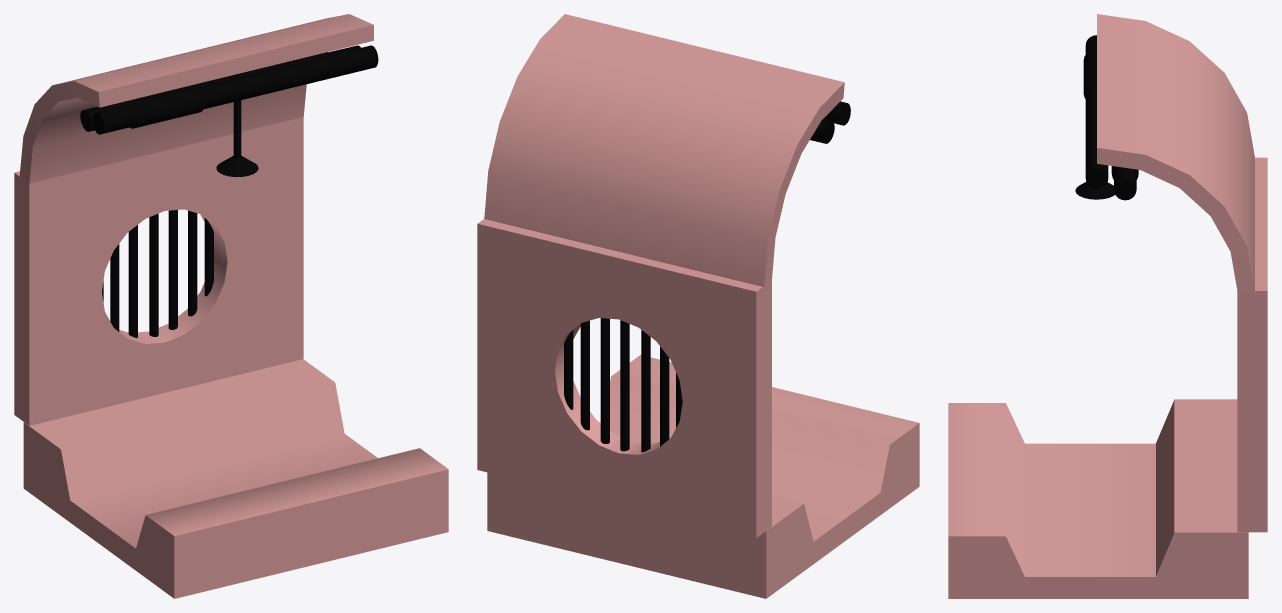
The model's file is sewer_room2.fbx.
3 views of the same model, side by side, from view 1: azimuth 30°, elevation 25°; view 2: azimuth 150°, elevation 25°; view 3: azimuth 270°, elevation 25° (orthographic). The views are drawn at different scales.
Parts seen in each view (by area): view 1: room2_walls, room2_metal; view 2: room2_walls, room2_metal; view 3: room2_walls, room2_metal.
Part boxes in pixels (x1,y1,x2,y2): room2_walls: [14, 14, 448, 598]; room2_metal: [80, 45, 378, 337]; room2_walls: [477, 14, 919, 598]; room2_metal: [564, 101, 850, 452]; room2_walls: [948, 14, 1267, 598]; room2_metal: [1075, 35, 1138, 200].
Bounding box in the file's own units: 2.02 × 3.15 × 2.02.
